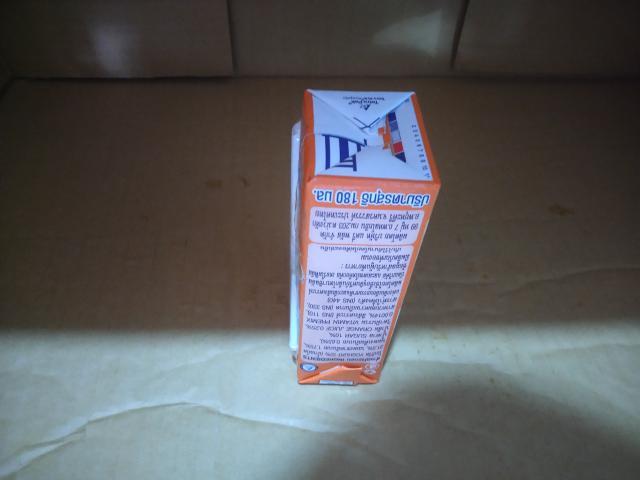drink_box: (270, 71, 456, 419)
